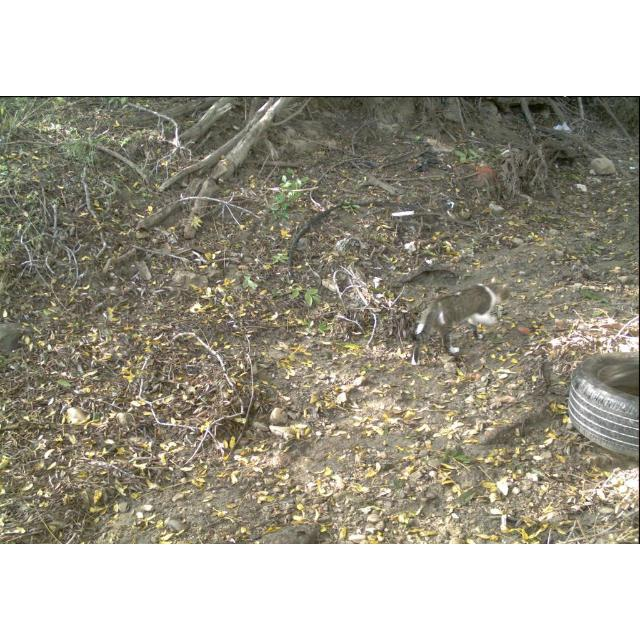animals: (411, 277, 513, 365)
